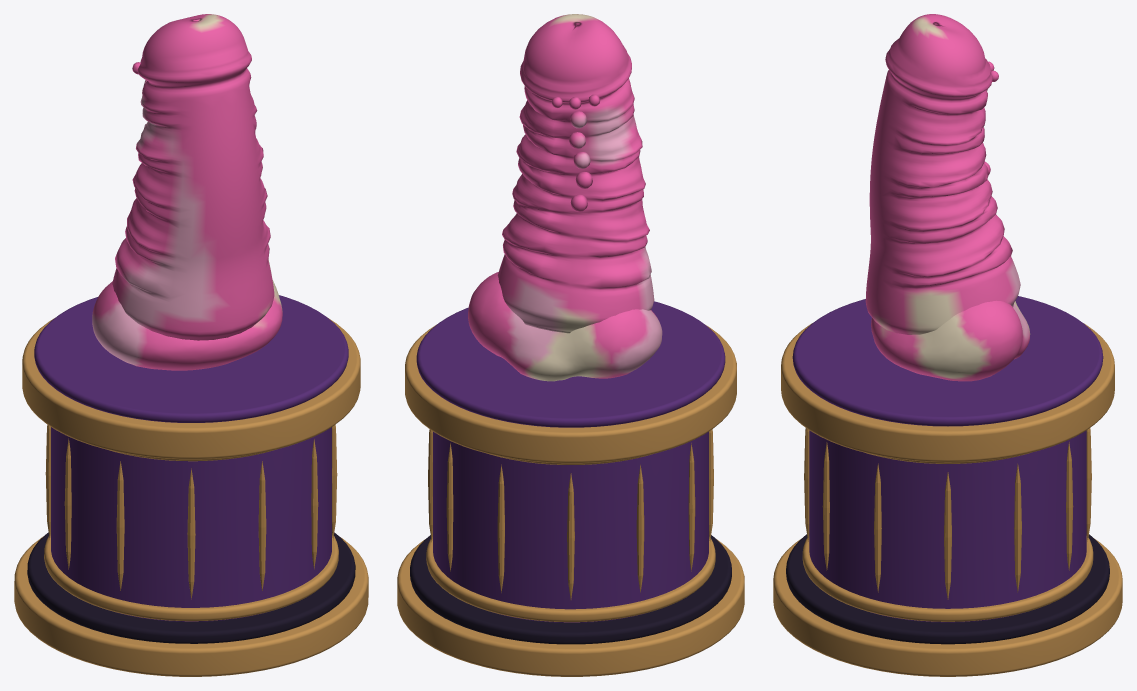
Rendered from rook.glb.
3 views of the same model, side by side, from view 1: azimuth 30°, elevation 25°; view 2: azimuth 150°, elevation 25°; view 3: azimuth 270°, elevation 25° (orthographic).
Visible parts, largest first — view 1: casino_pedestal, rook_original_rook; view 2: casino_pedestal, rook_original_rook; view 3: casino_pedestal, rook_original_rook.
Boxes of the visible parts, bbox=[...] form: casino_pedestal: bbox=[14, 295, 368, 676]; rook_original_rook: bbox=[92, 14, 282, 370]; casino_pedestal: bbox=[397, 301, 744, 676]; rook_original_rook: bbox=[468, 14, 662, 381]; casino_pedestal: bbox=[773, 296, 1122, 676]; rook_original_rook: bbox=[865, 14, 1030, 381].
Bounding box in the file's own units: 0.68 × 1.25 × 0.68.
